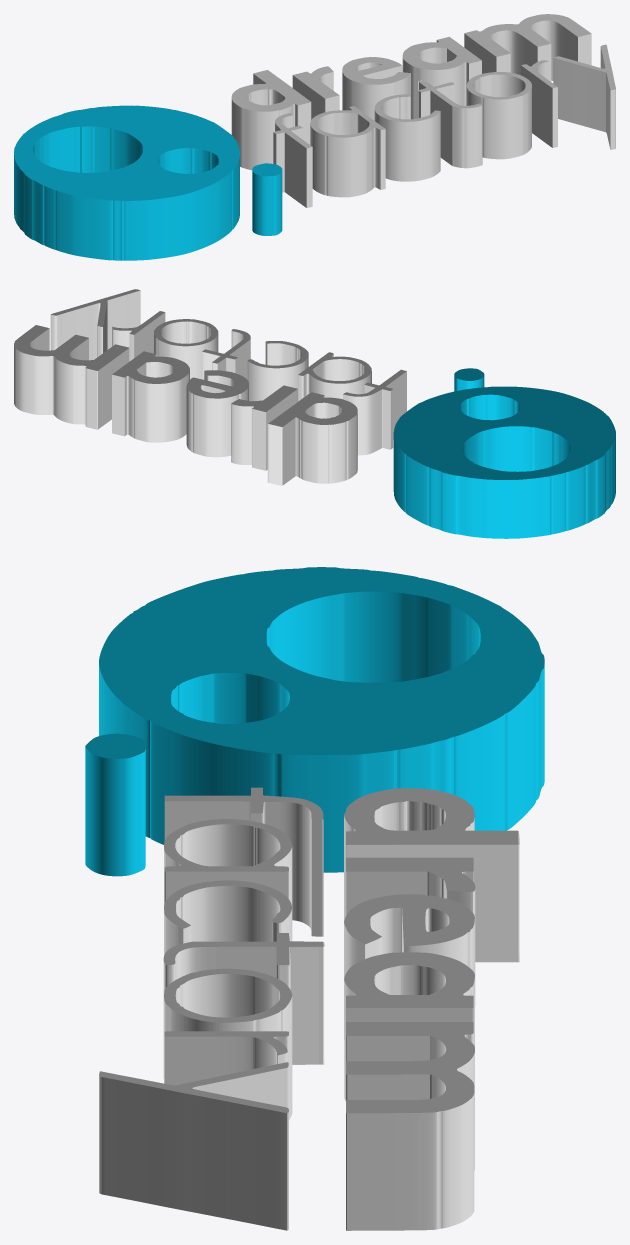
The model's file is Trestech.gltf.
3 renders of one model, top to bottom at view 1: azimuth 30°, elevation 25°; view 2: azimuth 150°, elevation 25°; view 3: azimuth 270°, elevation 25°, orthographic. The views are drawn at different scales.
Parts seen in each view (by area): view 1: Node1, Node6, Node5, Node3, Node7, Node11, Node10, Node12, Node4, Node8, Node13, Node2 (+2 smaller); view 2: Node1, Node5, Node3, Node4, Node8, Node10, Node13, Node9, Node6, Node11, Node7, Node14 (+3 smaller); view 3: Node1, Node5, Node10, Node4, Node2, Node6, Node13, Node7, Node3, Node8, Node11, Node15 (+4 smaller).
Boxes of the visible parts, <box> form: Node1: <box>14,105,239,260</box>; Node6: <box>310,106,385,197</box>; Node5: <box>464,14,591,81</box>; Node3: <box>231,70,311,170</box>; Node7: <box>466,72,531,159</box>; Node11: <box>374,94,440,181</box>; Node10: <box>553,44,615,149</box>; Node12: <box>418,80,482,168</box>; Node4: <box>402,36,481,119</box>; Node8: <box>342,57,410,120</box>; Node13: <box>273,113,312,207</box>; Node2: <box>252,163,282,235</box>; Node1: <box>393,386,615,538</box>; Node5: <box>14,325,129,429</box>; Node3: <box>268,392,357,485</box>; Node4: <box>112,351,189,442</box>; Node8: <box>186,370,248,457</box>; Node10: <box>50,289,140,360</box>; Node13: <box>343,369,406,455</box>; Node9: <box>231,385,297,470</box>; Node6: <box>298,352,371,401</box>; Node11: <box>247,341,308,401</box>; Node7: <box>154,319,218,379</box>; Node14: <box>112,311,165,361</box>; Node1: <box>99,567,544,872</box>; Node5: <box>346,1022,474,1230</box>; Node10: <box>99,1062,288,1230</box>; Node4: <box>344,952,474,1101</box>; Node2: <box>85,733,145,876</box>; Node6: <box>164,819,292,940</box>; Node13: <box>164,787,323,936</box>; Node7: <box>164,968,292,1119</box>; Node3: <box>344,788,518,961</box>; Node8: <box>344,894,474,1039</box>; Node11: <box>164,880,291,955</box>; Node15: <box>346,834,519,962</box>.
Size of the model in its own units: 99.76 by 10 by 35.44.
